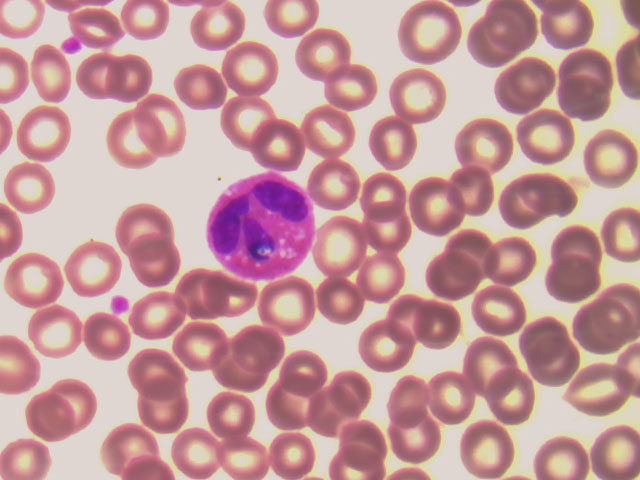Platelets: (57, 30, 85, 58), (106, 293, 135, 315)
RBC: (105, 111, 167, 172), (134, 98, 196, 159), (166, 58, 228, 119), (215, 87, 277, 148), (247, 114, 309, 175), (225, 41, 287, 102), (120, 1, 182, 62), (289, 25, 351, 86), (312, 50, 374, 111), (309, 100, 371, 161), (305, 156, 367, 217), (357, 163, 419, 224), (371, 114, 433, 175), (384, 67, 446, 128), (452, 112, 514, 173), (447, 162, 509, 223), (406, 173, 468, 234), (368, 206, 430, 267), (310, 214, 372, 275), (351, 241, 413, 302), (312, 272, 374, 333), (266, 275, 328, 336), (207, 268, 269, 329), (183, 262, 245, 323), (127, 236, 189, 297), (112, 200, 174, 261), (67, 234, 129, 295), (5, 247, 67, 308), (5, 160, 67, 221), (15, 104, 77, 165), (27, 49, 89, 110), (81, 309, 143, 370), (24, 303, 86, 364), (51, 374, 113, 435), (22, 386, 84, 447), (121, 344, 183, 405), (128, 388, 190, 449), (95, 413, 157, 474), (162, 419, 224, 480), (197, 385, 259, 446), (205, 345, 267, 406), (235, 315, 297, 376), (176, 313, 238, 374), (272, 341, 334, 402), (250, 382, 312, 443), (305, 387, 367, 448), (324, 361, 386, 422), (353, 320, 415, 381), (380, 293, 442, 354), (415, 291, 477, 352), (425, 251, 487, 312), (437, 228, 499, 289), (494, 228, 556, 289), (551, 255, 613, 316), (550, 223, 612, 284), (527, 169, 589, 230), (495, 175, 557, 236), (514, 105, 576, 166), (578, 117, 640, 178), (565, 53, 627, 114), (498, 53, 560, 114), (461, 18, 523, 79), (573, 294, 635, 355), (529, 337, 591, 398), (510, 306, 572, 367), (481, 371, 543, 432), (463, 332, 525, 393), (424, 369, 486, 430), (379, 371, 441, 432), (388, 412, 450, 473), (453, 414, 515, 475), (569, 360, 631, 421), (267, 419, 329, 480), (210, 419, 272, 480), (189, 1, 251, 61), (396, 1, 458, 61)
WBC: (210, 174, 311, 277)
